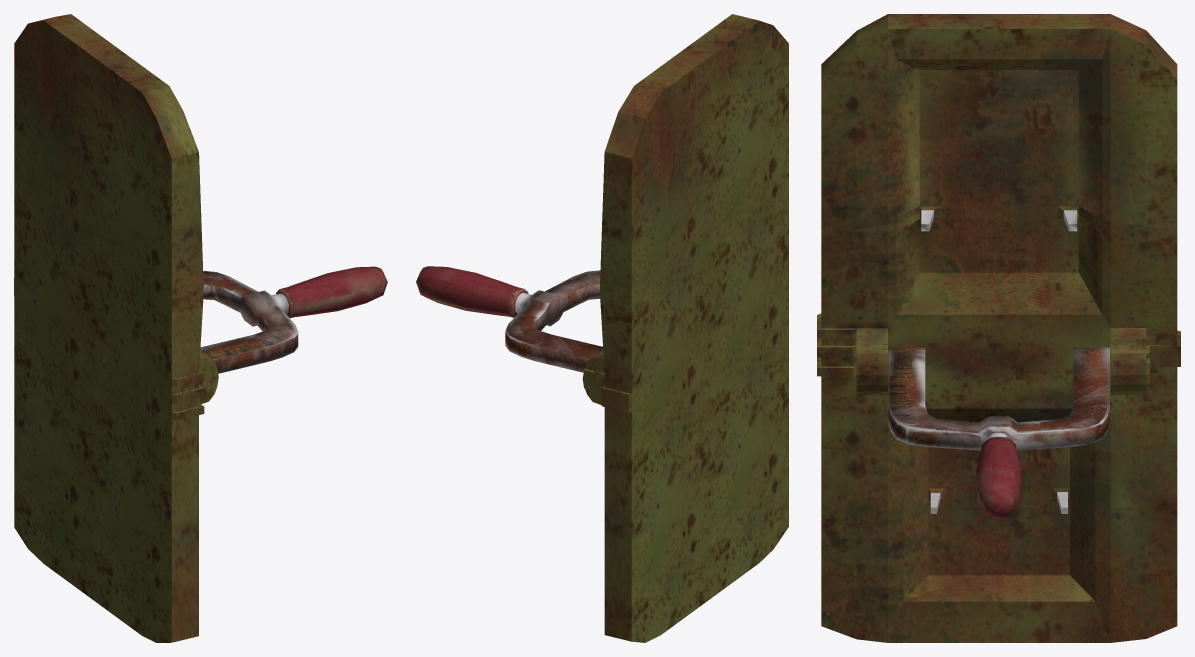
The model's file is lever_sample.gltf.
The picture shows the model from 3 angles, left to right: view 1: azimuth 30°, elevation 25°; view 2: azimuth 150°, elevation 25°; view 3: azimuth 270°, elevation 25°; orthographic projection. The views are drawn at different scales.
Parts seen in each view (by area): view 1: Backplate, Lever; view 2: Backplate, Lever; view 3: Backplate, Lever.
Part boxes in pixels (left/top/right/bottom): Backplate: left=14, top=14, right=218, bottom=642; Lever: left=200, top=266, right=387, bottom=373; Backplate: left=582, top=14, right=788, bottom=642; Lever: left=416, top=266, right=603, bottom=372; Backplate: left=817, top=14, right=1180, bottom=642; Lever: left=888, top=347, right=1109, bottom=518.
Size of the model in its own units: 2.07 by 3.67 by 1.97.
Materials: 2 (2 with a texture image).
